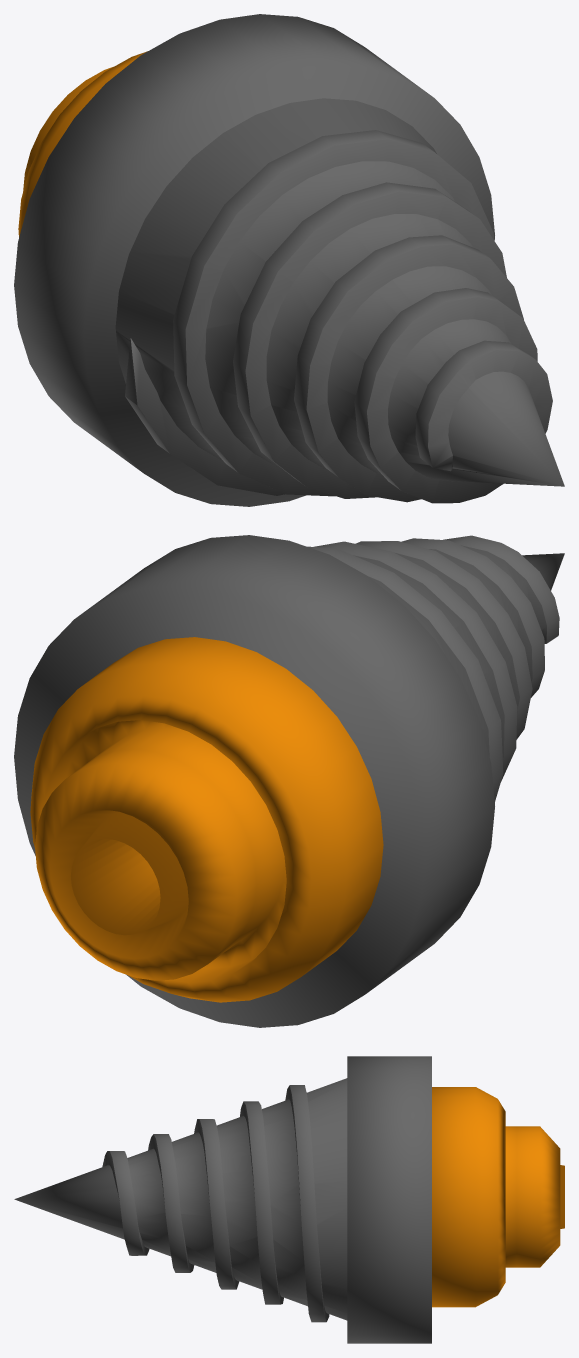
Rendered from dril1l.fbx.
3 views of the same model, one above another, from view 1: azimuth 30°, elevation 25°; view 2: azimuth 150°, elevation 25°; view 3: azimuth 270°, elevation 25° (orthographic). The views are drawn at different scales.
Visible parts, largest first — view 1: Cone; view 2: Cone; view 3: Cone.
Part boxes in pixels (bbox=[...]): Cone: bbox=[14, 14, 564, 506]; Cone: bbox=[14, 535, 564, 1027]; Cone: bbox=[14, 1056, 564, 1343].
Size of the model in its own units: 396 by 396 by 759.
